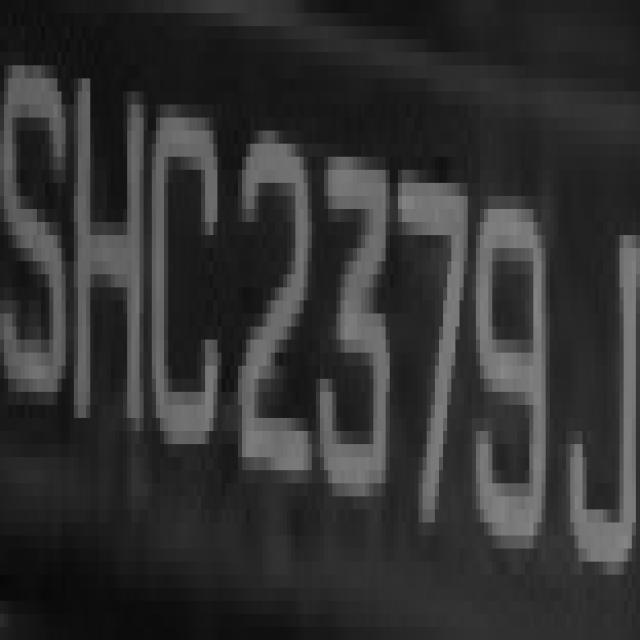2: (234, 92, 324, 536)
3: (308, 131, 390, 496)
7: (382, 118, 468, 562)
9: (459, 143, 557, 640)
C: (144, 105, 225, 444)
H: (66, 65, 152, 418)
J: (549, 170, 640, 601)
S: (4, 26, 66, 405)
